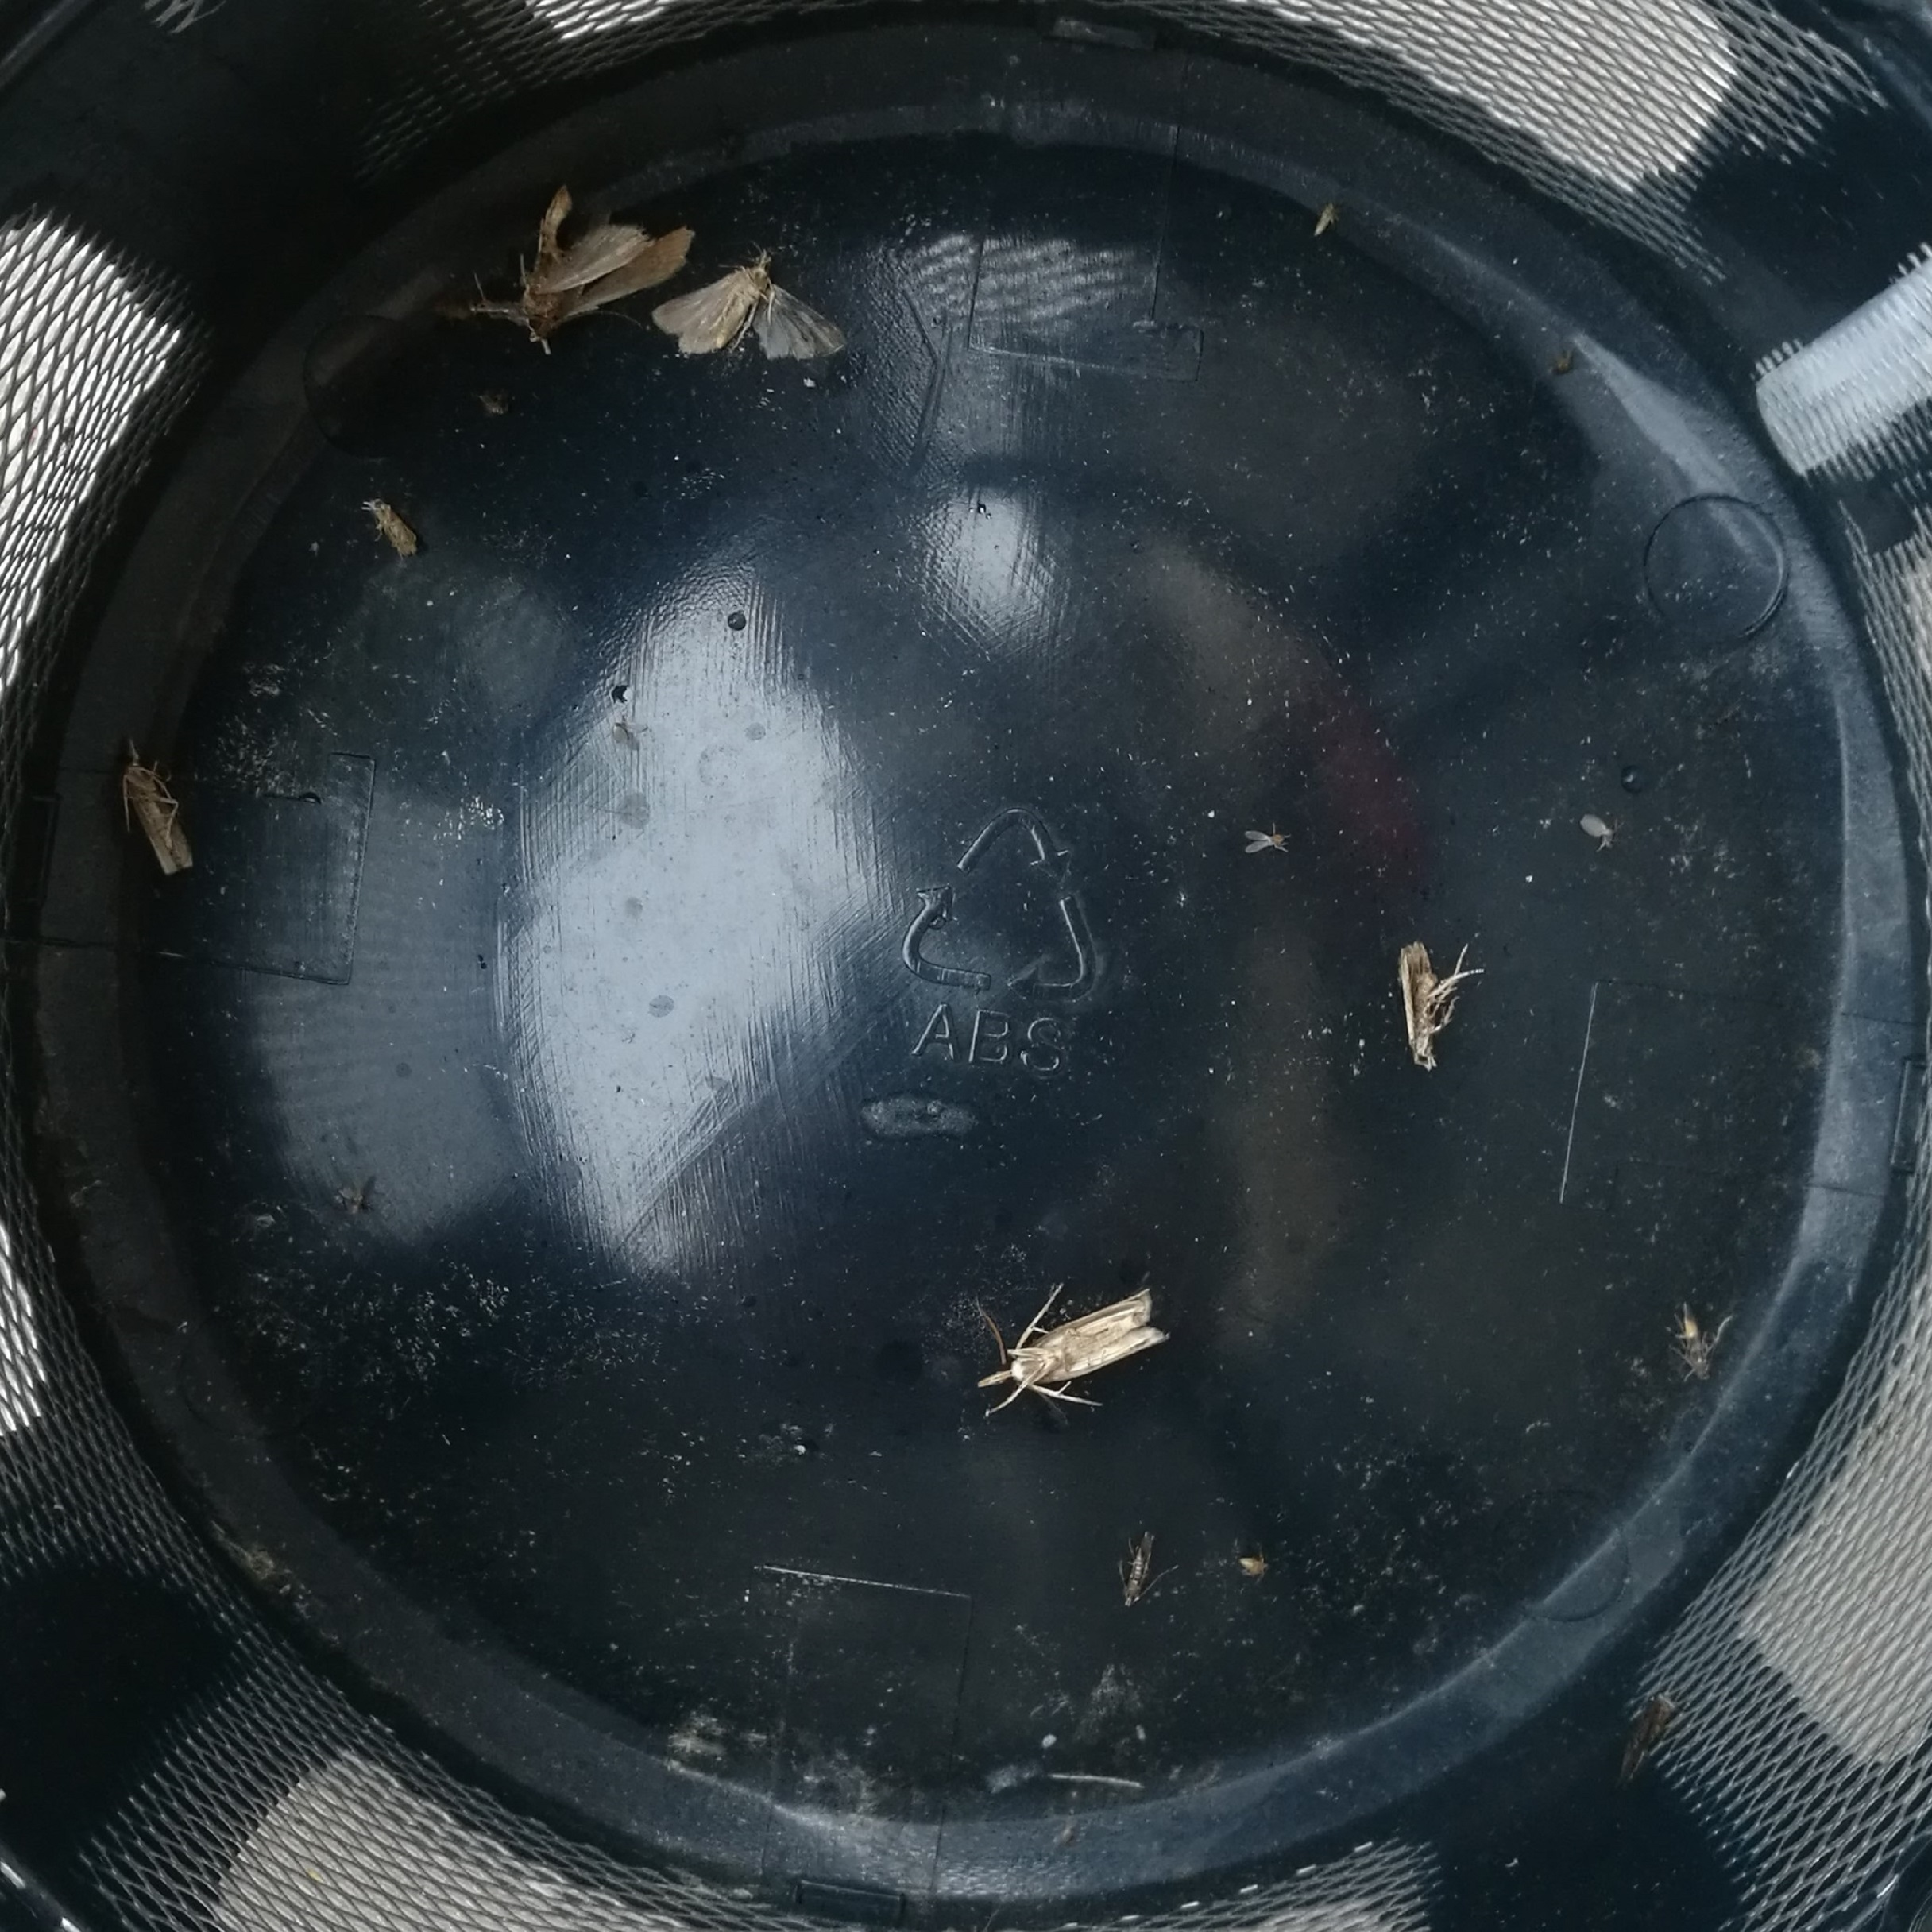mosquito: (982, 1286, 1168, 1396), (1398, 939, 1486, 1072), (122, 731, 195, 878)
moth: (517, 189, 694, 334), (651, 276, 846, 359)
